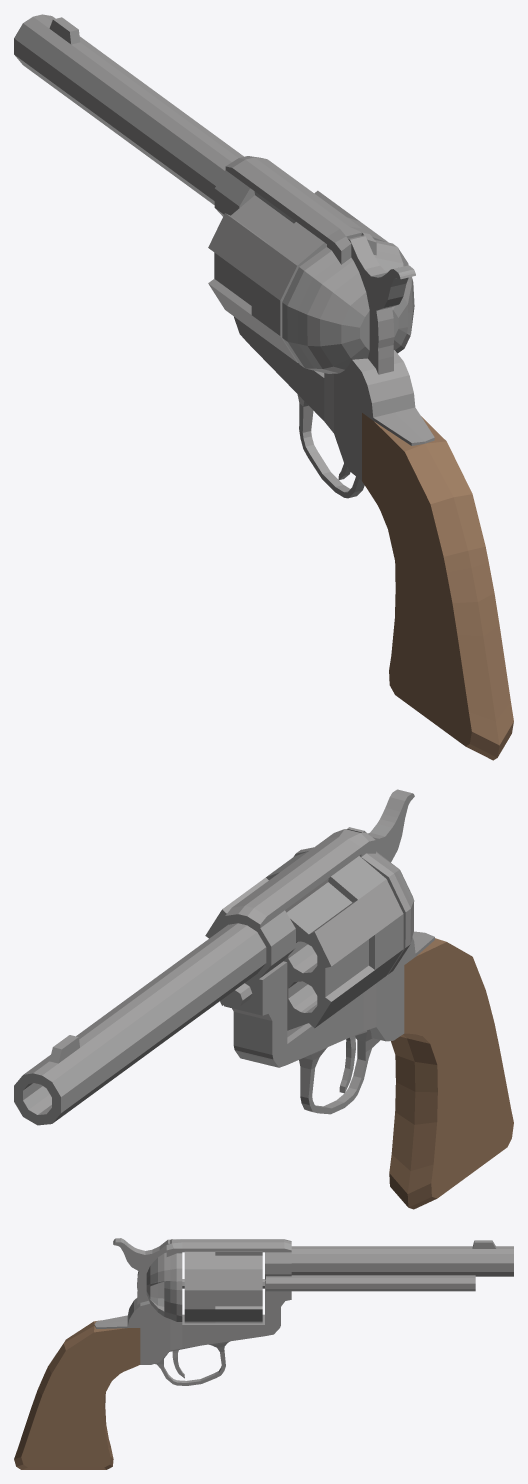
File: Colt Revolver-2.glb
3 renders of one model, top to bottom at view 1: azimuth 30°, elevation 25°; view 2: azimuth 150°, elevation 25°; view 3: azimuth 270°, elevation 25°, orthographic. The views are drawn at different scales.
Visible parts, largest first — view 1: Colt Revolver-2; view 2: Colt Revolver-2; view 3: Colt Revolver-2.
Part boxes in pixels (x1=…): Colt Revolver-2: x1=14, y1=14, x2=513, y2=760; Colt Revolver-2: x1=14, y1=789, x2=513, y2=1209; Colt Revolver-2: x1=14, y1=1238, x2=513, y2=1469.
Bounding box in the file's own units: 5.04 × 16.18 × 31.89.
